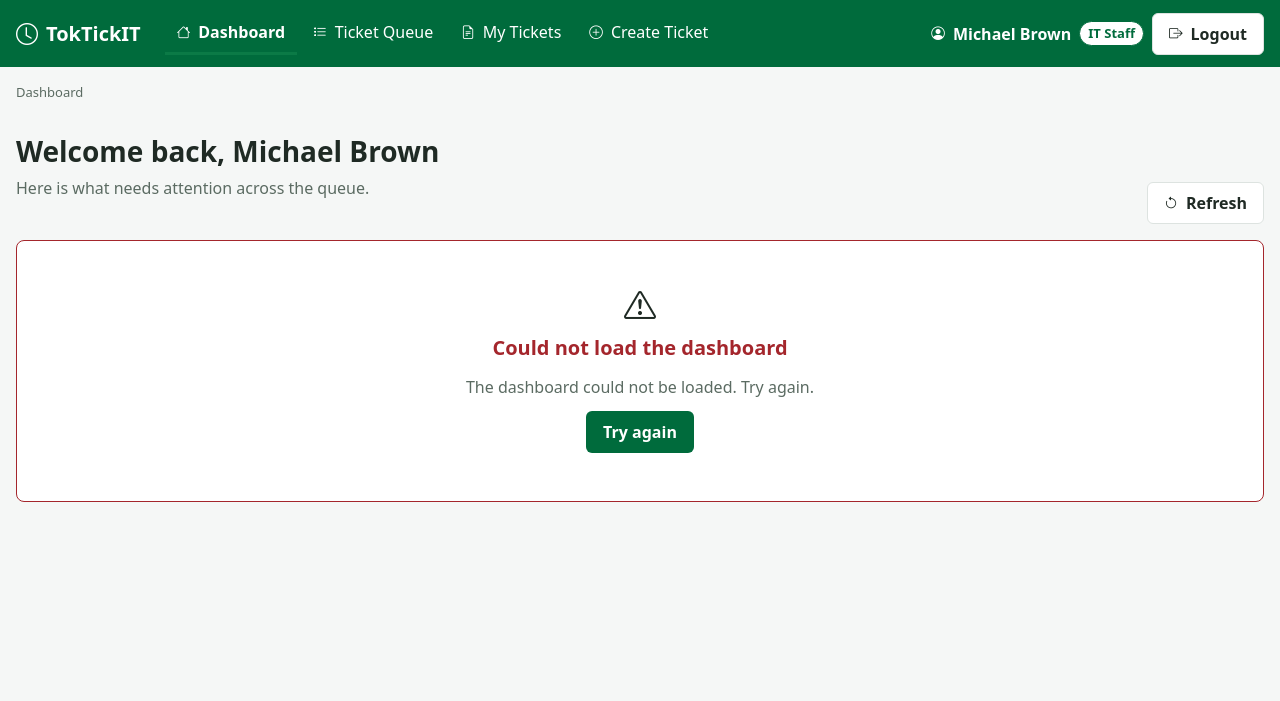
it: UI-06 failure › shows a safe message and Try again, which retries
expect the message shows "The dashboard could not be loaded. Try again.": met, box left=466, top=376, right=814, bottom=398
expect the message does not show "must never be shown": met, box left=16, top=240, right=1264, bottom=502
Click the button "Try again".
click(640, 432)  # box left=586, top=411, right=694, bottom=453
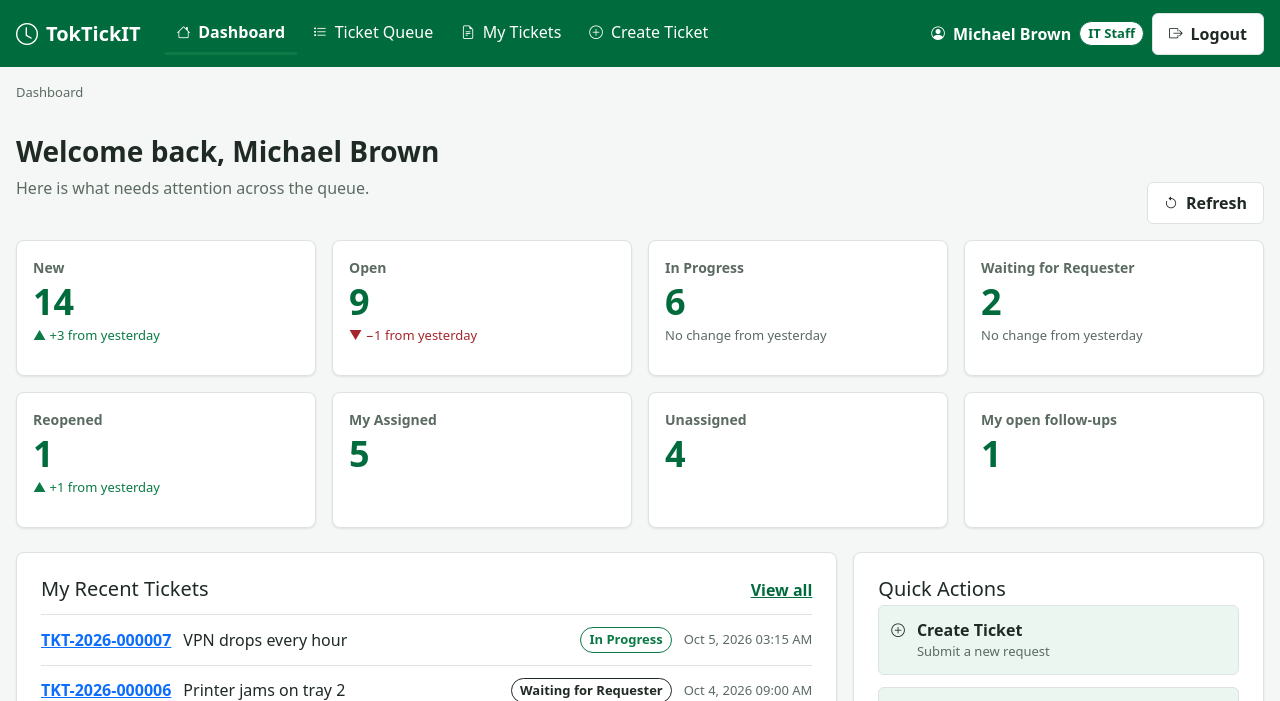
expect the link with aria-label "New, 14 tickets" is shown: met, box left=16, top=240, right=316, bottom=376
expect the message is gone: met
